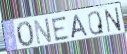A: (71, 14, 90, 40)
E: (50, 15, 71, 42)
N: (33, 17, 53, 47), (104, 7, 122, 35)
O: (15, 20, 35, 48)
Q: (87, 10, 105, 36)
